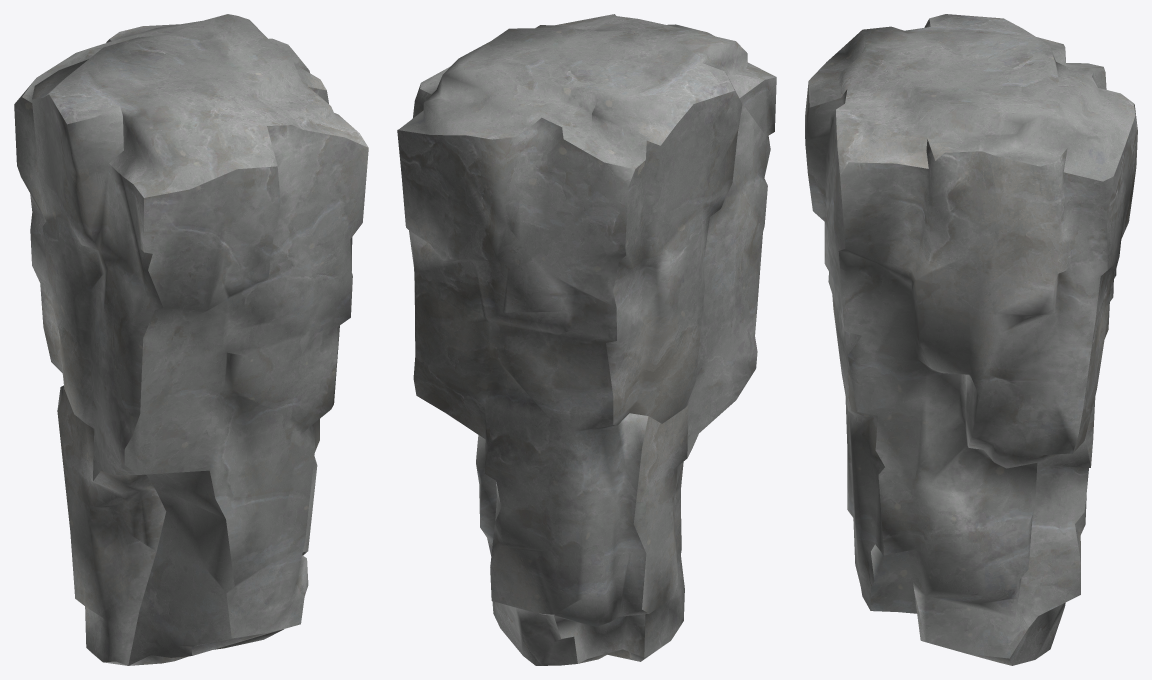
File: SM_Com_Roc_05AS.fbx
The picture shows the model from 3 angles, left to right: view 1: azimuth 30°, elevation 25°; view 2: azimuth 150°, elevation 25°; view 3: azimuth 270°, elevation 25°; orthographic projection. The views are drawn at different scales.
Visible parts, largest first — view 1: SM_Com_Roc_05AS.mo; view 2: SM_Com_Roc_05AS.mo; view 3: SM_Com_Roc_05AS.mo.
Boxes of the visible parts, bbox=[...] form: SM_Com_Roc_05AS.mo: bbox=[14, 14, 368, 665]; SM_Com_Roc_05AS.mo: bbox=[397, 14, 776, 665]; SM_Com_Roc_05AS.mo: bbox=[805, 14, 1137, 665].
Bounding box in the file's own units: 12.61 × 26.21 × 13.7.
